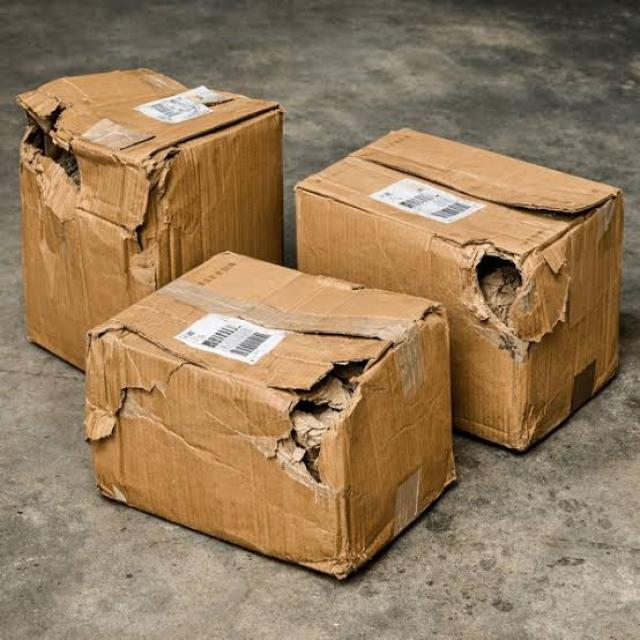package_damage: (11, 62, 306, 378), (241, 350, 396, 504), (381, 152, 634, 220), (72, 311, 192, 446), (449, 237, 572, 362), (410, 301, 454, 330)
